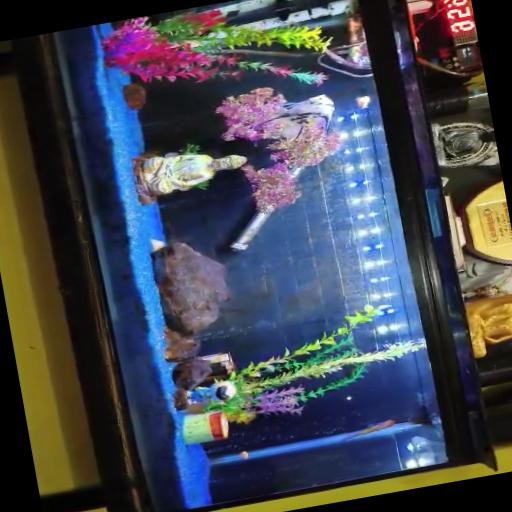Fish: (260, 94, 333, 136), (342, 419, 394, 440), (355, 95, 370, 107), (238, 451, 248, 458)
